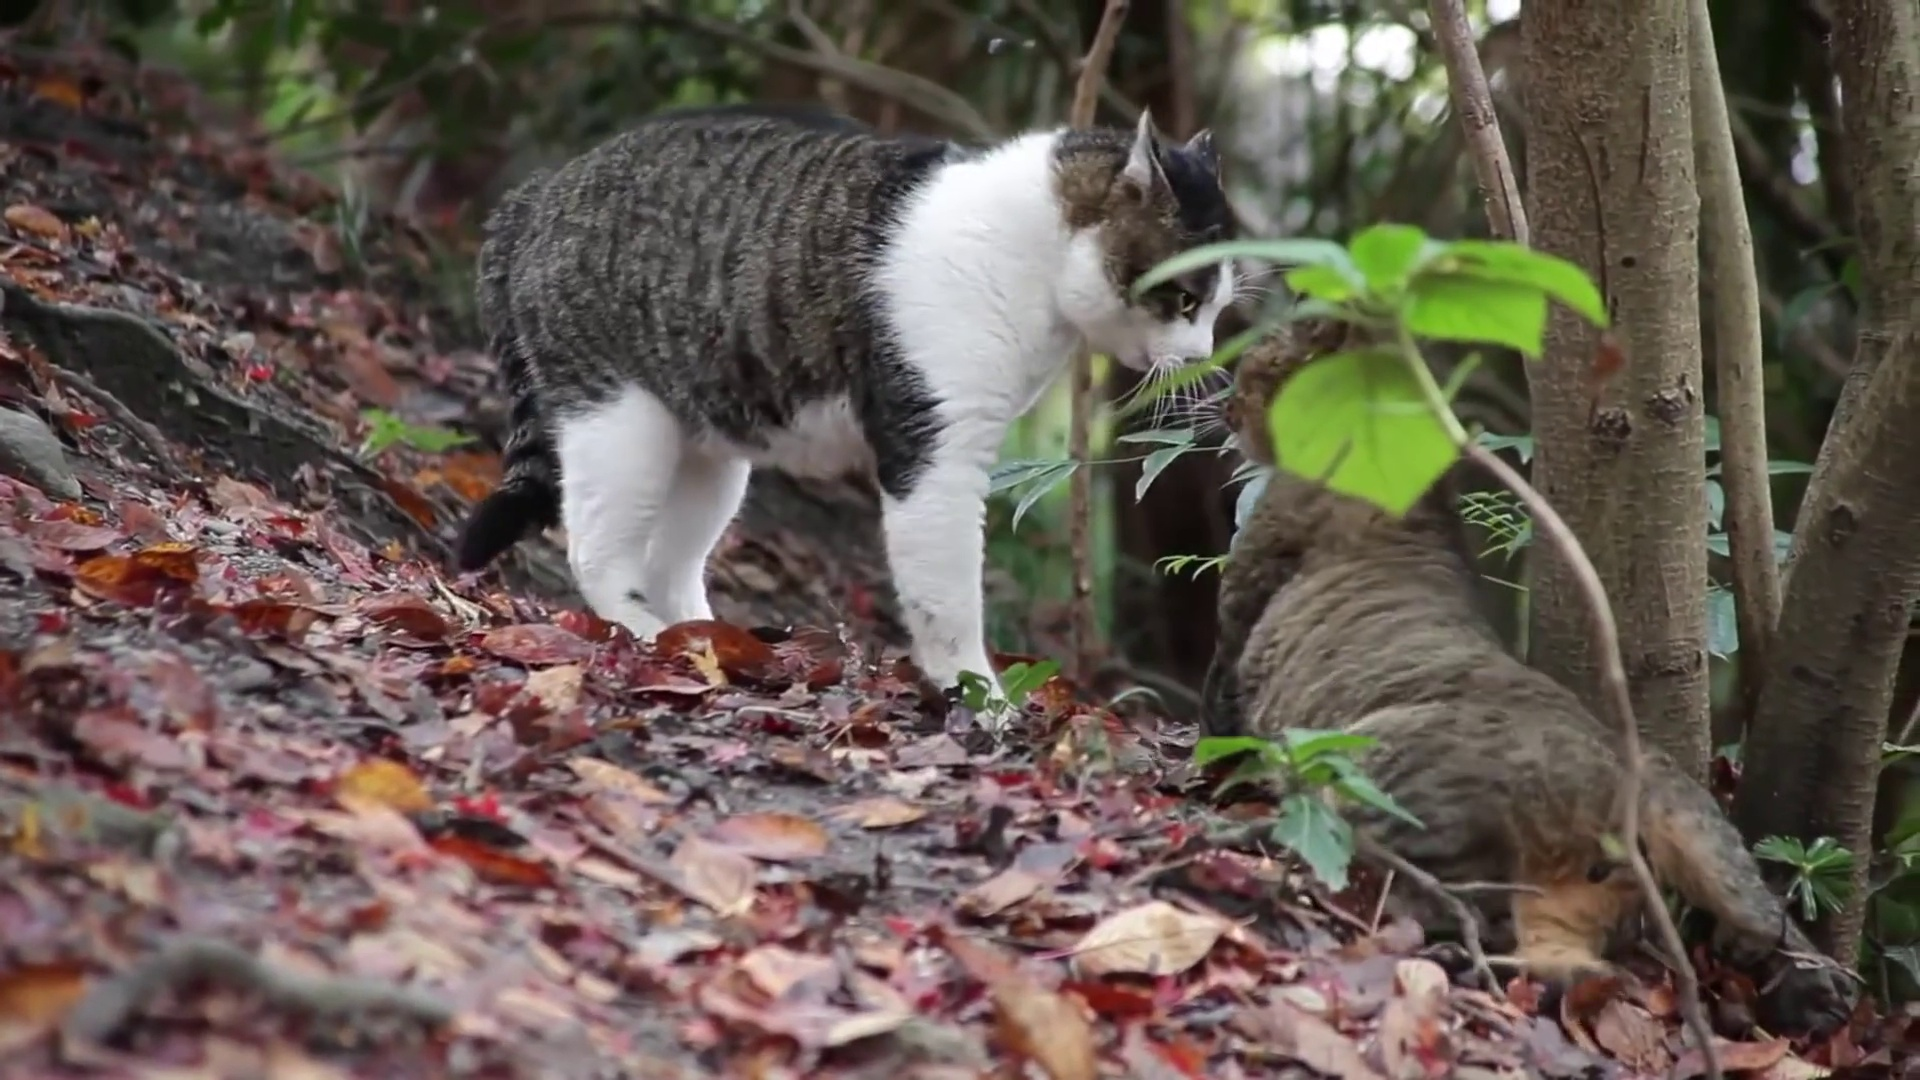black-white: (456, 108, 1240, 719)
pure black: (1230, 313, 1654, 894)
